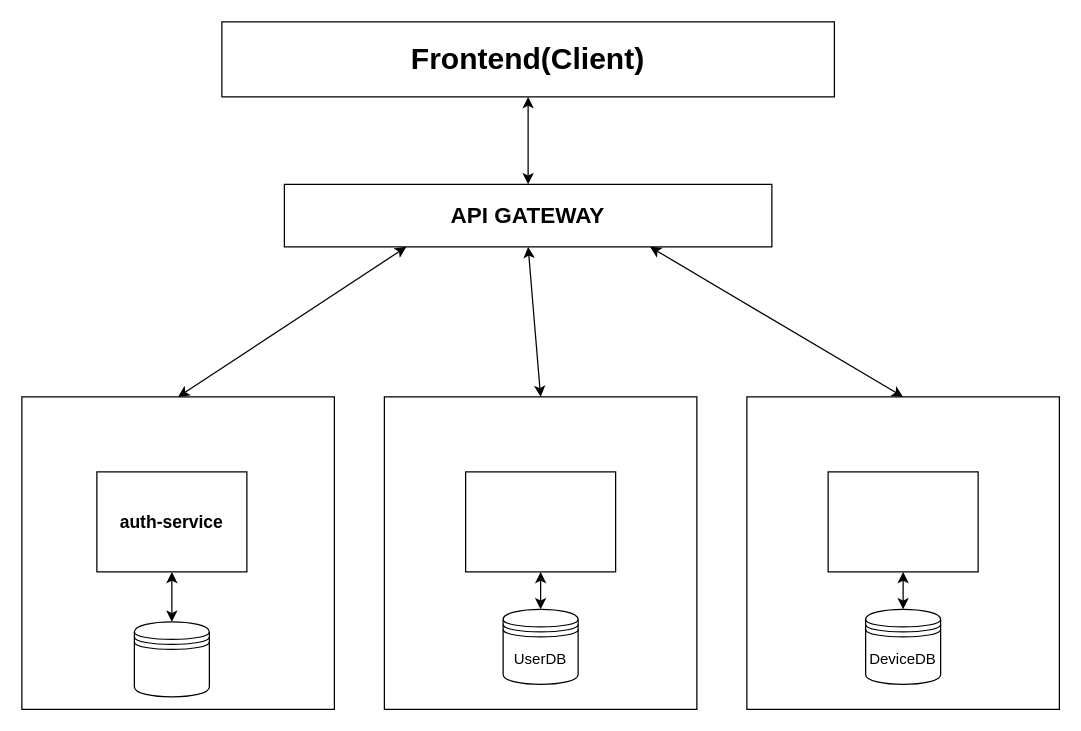
Some shapes in this 1081 by 731 pixel diagram are drawn without their labels. The centre of each missing label's shape, as x and y in pixels:
AuthDB: (x=171, y=659)
device-service: (x=902, y=521)
user-service: (x=540, y=521)
